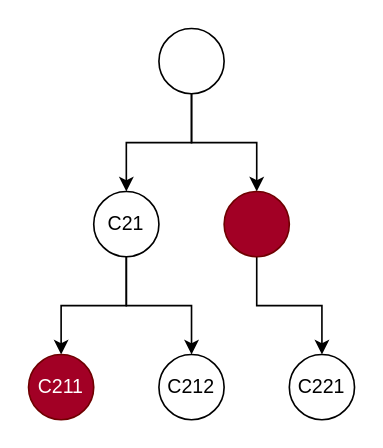
Image size: 383x448. Some labels were removed from this diagram. The shapes that lost their labels are listed below. From the top down, each one's centre as x and y in pixels, then its label:
At pixel 190 60: "C1".
At pixel 255 223: "C22".
